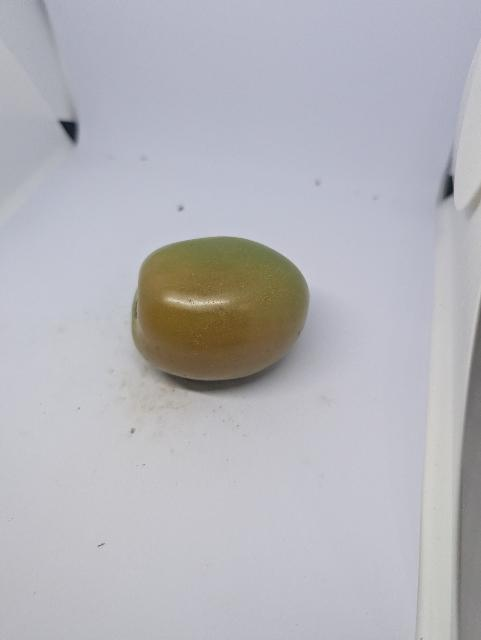breaker: (131, 236, 312, 390)
